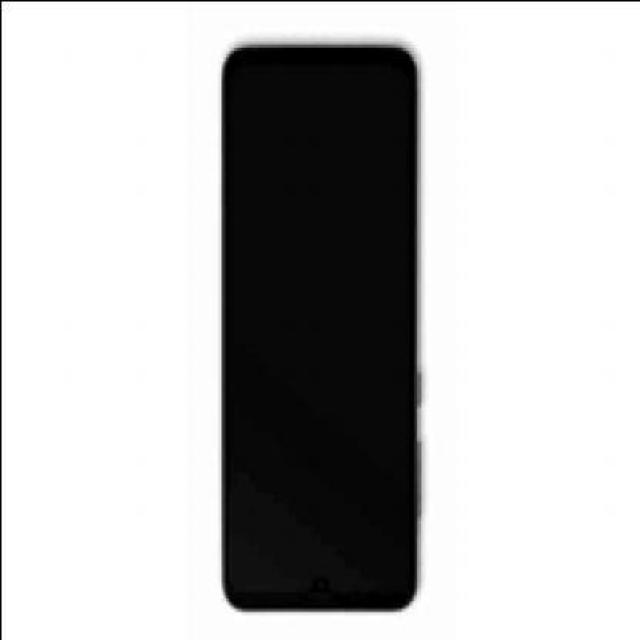cellphone: (218, 43, 418, 611)
